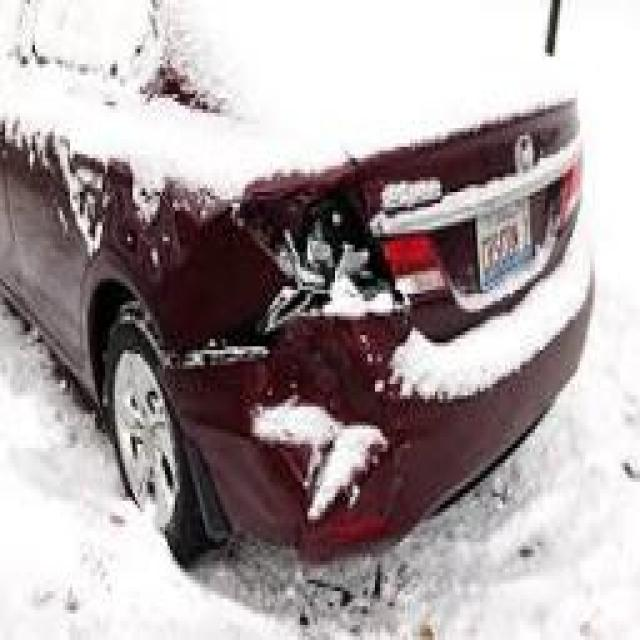Bumper: (245, 365, 418, 553)
Light: (250, 188, 430, 350)
